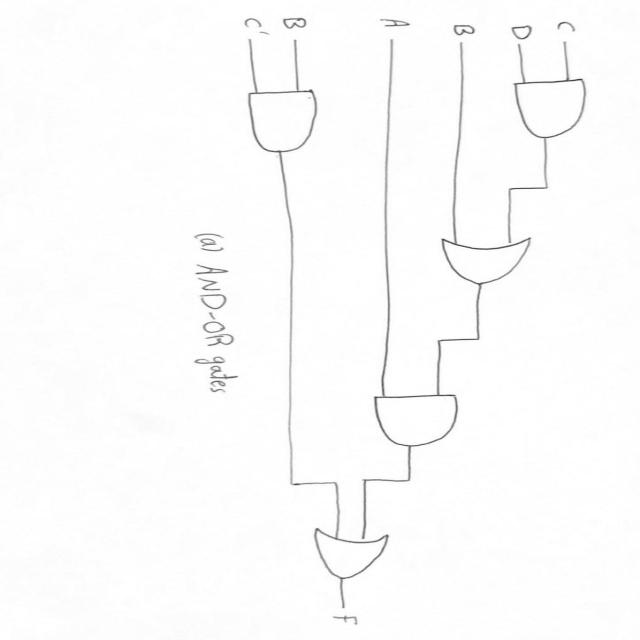AND: (349, 388, 485, 453), (497, 72, 604, 146), (236, 78, 335, 157)
OR: (426, 224, 548, 295), (298, 518, 416, 587)
